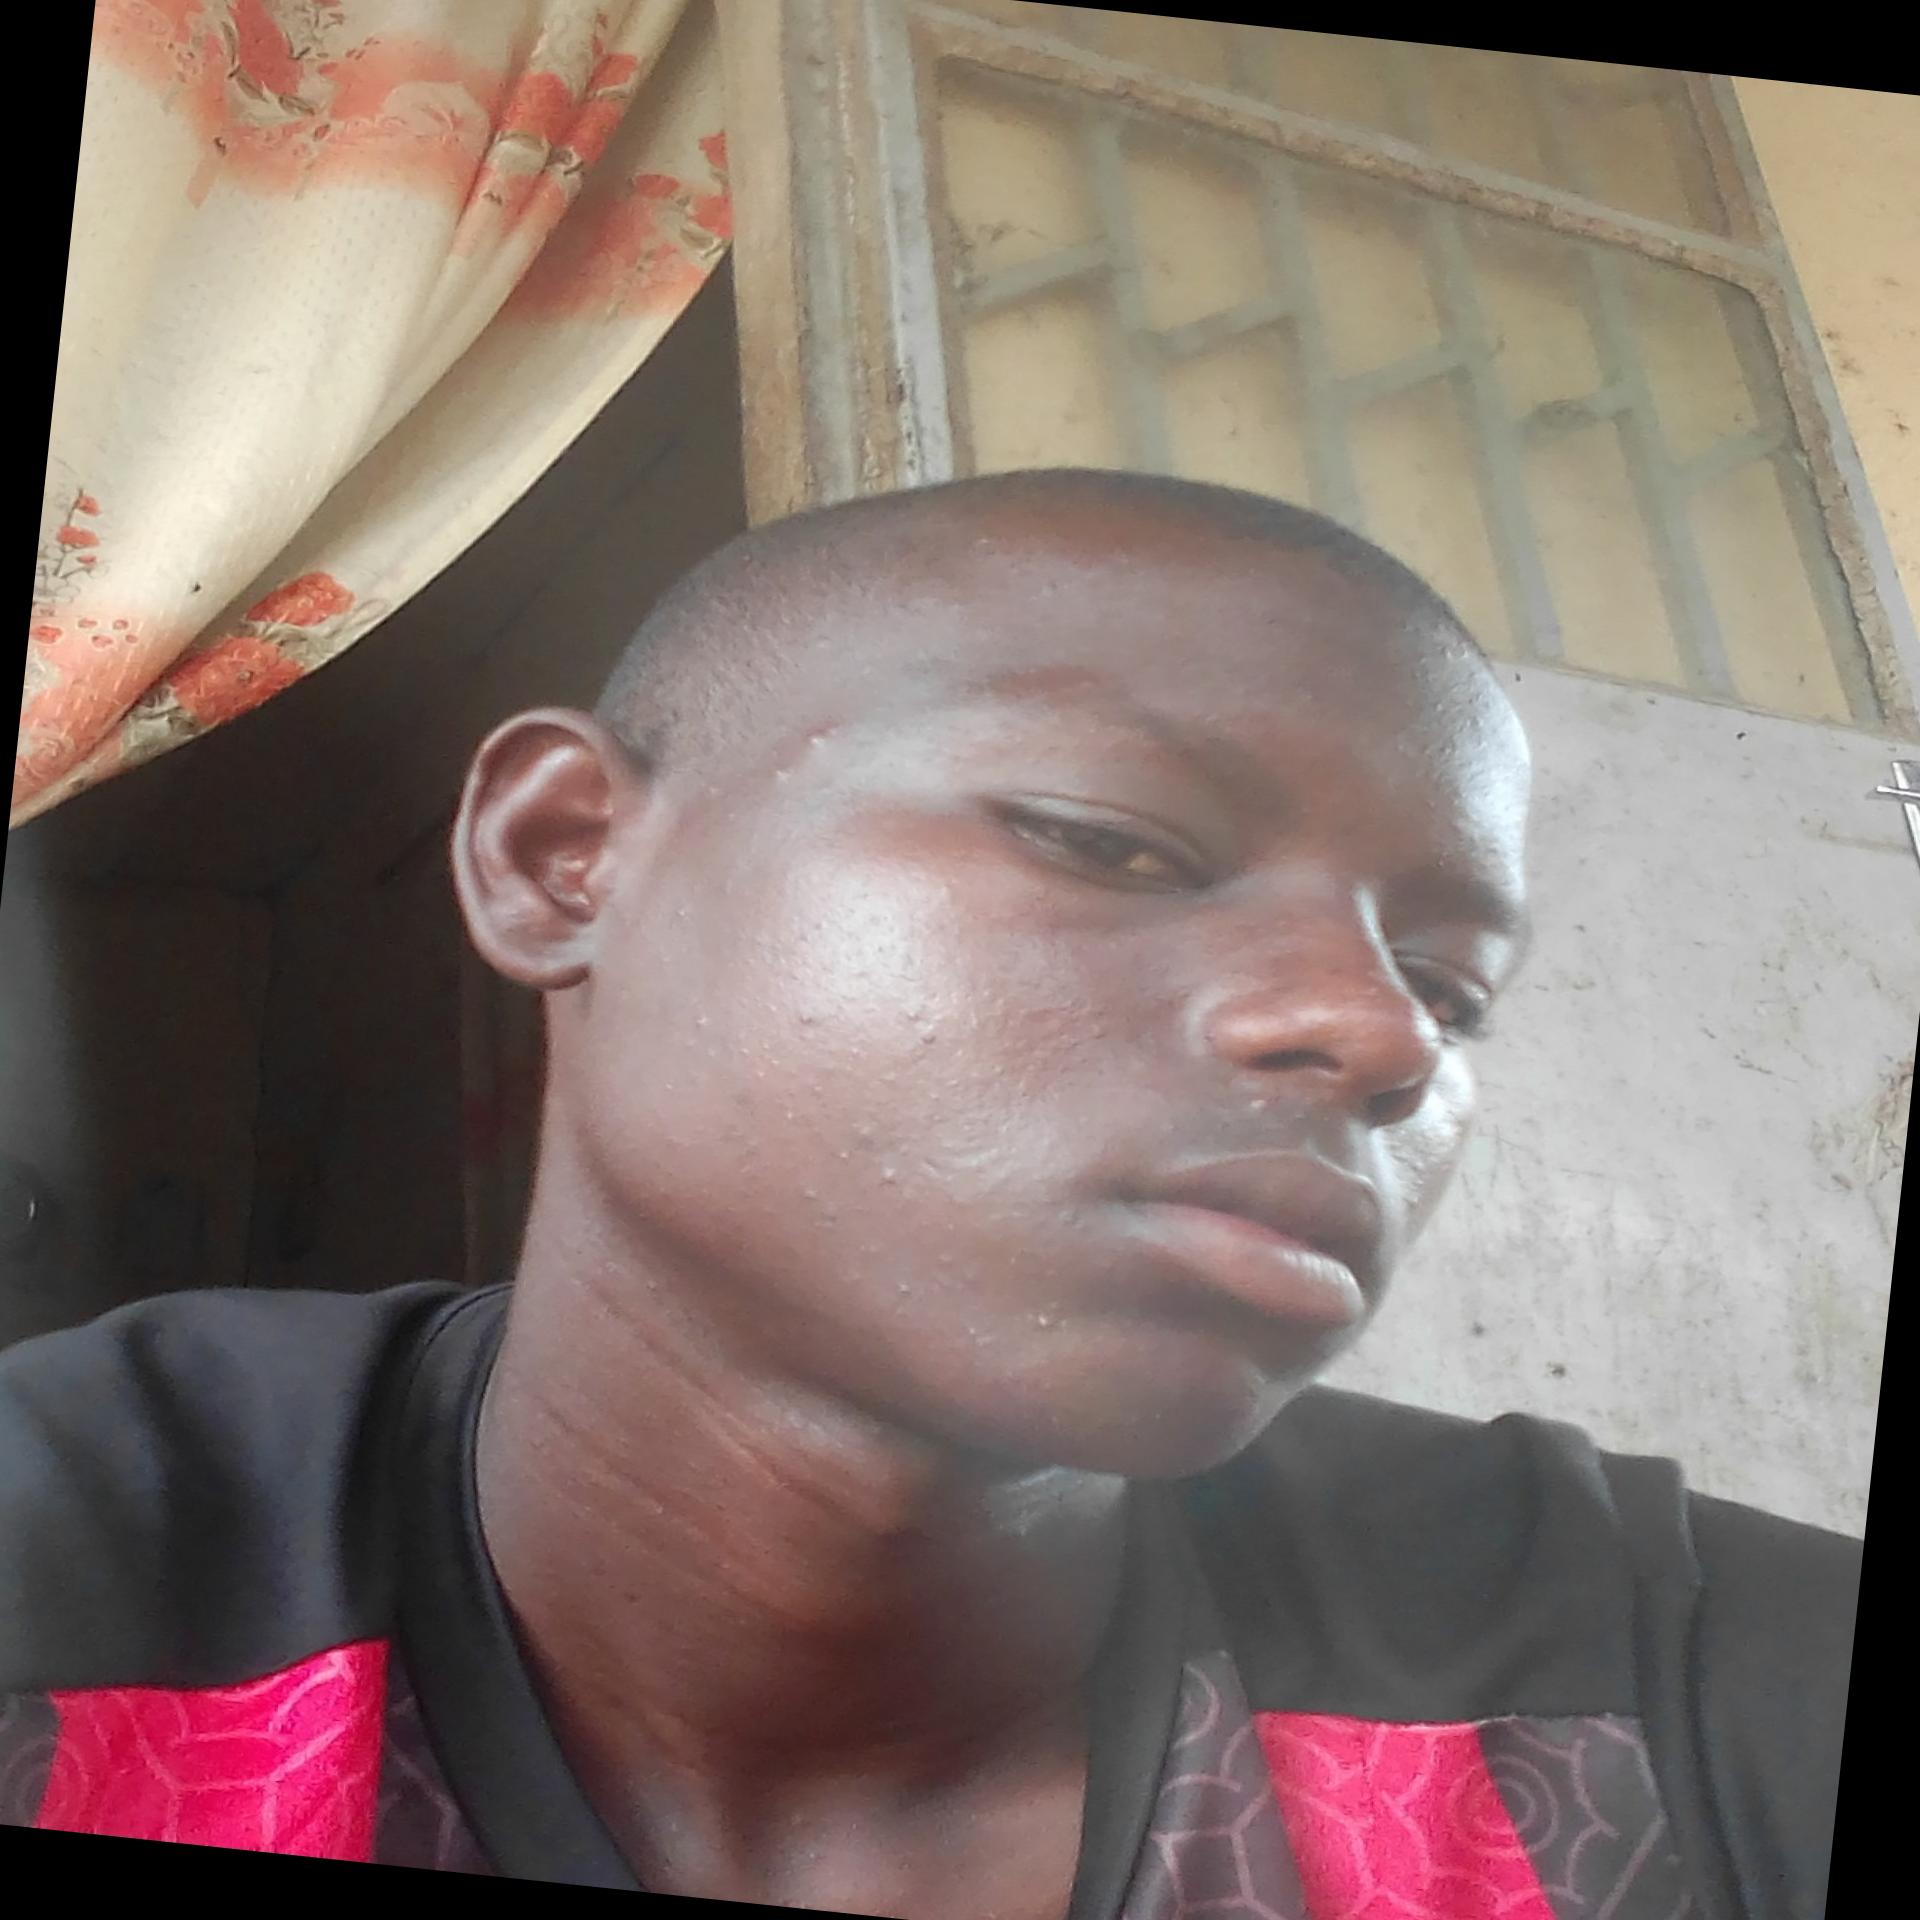Acne: (819, 1118, 913, 1197), (1377, 1146, 1436, 1211), (888, 999, 948, 1055), (798, 717, 847, 756), (786, 1004, 823, 1037), (760, 763, 802, 789), (687, 1004, 723, 1032), (1238, 1092, 1275, 1118), (1018, 1306, 1053, 1329)
